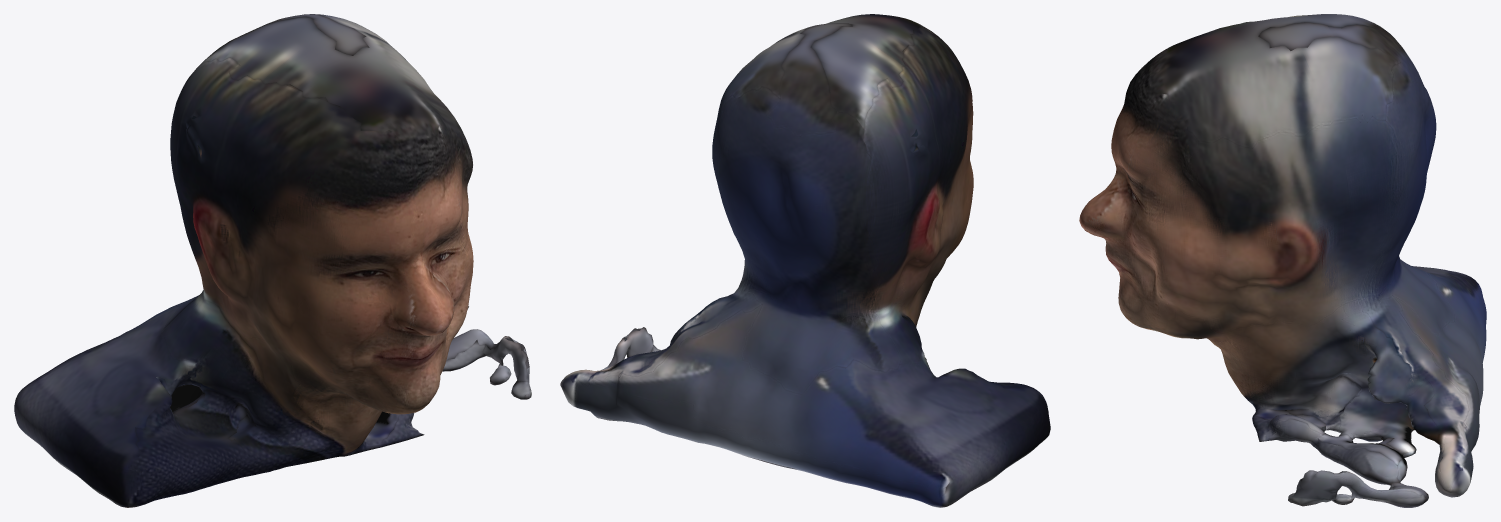
3 renders of one model, left to right at view 1: azimuth 30°, elevation 25°; view 2: azimuth 150°, elevation 25°; view 3: azimuth 270°, elevation 25°, orthographic. The views are drawn at different scales.
Visible parts, largest first — view 1: model.obj; view 2: model.obj; view 3: model.obj.
Part boxes in pixels (box(x1,y1,x2,y2)): model.obj: box(14, 14, 531, 507); model.obj: box(560, 14, 1050, 507); model.obj: box(1079, 14, 1486, 507).
Bounding box in the file's own units: 115 × 102 × 94.9.
1 material, 1 textured.
